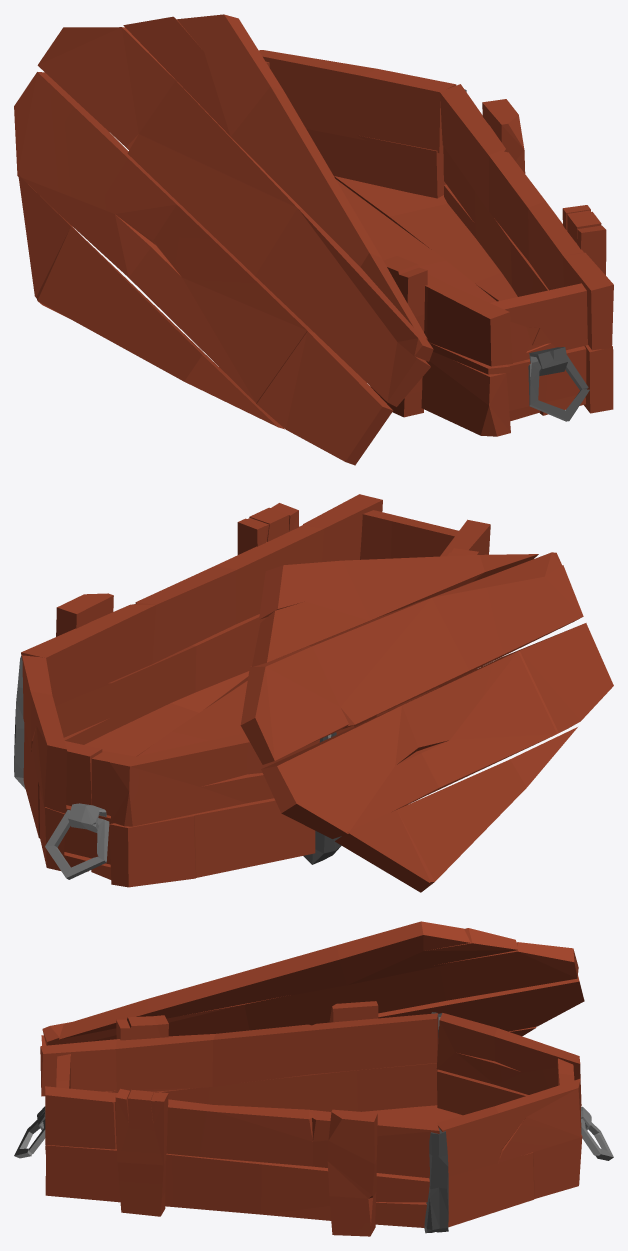
The model's file is HWN20_OpenCoffin.glb.
3 views of the same model, one above another, from view 1: azimuth 30°, elevation 25°; view 2: azimuth 150°, elevation 25°; view 3: azimuth 270°, elevation 25° (orthographic). The views are drawn at different scales.
Visible parts, largest first — view 1: HWN20_OpenCoffin; view 2: HWN20_OpenCoffin; view 3: HWN20_OpenCoffin.
Part boxes in pixels (x1,y1,x2,y2): HWN20_OpenCoffin: (14, 14, 613, 465); HWN20_OpenCoffin: (14, 494, 613, 892); HWN20_OpenCoffin: (14, 921, 613, 1236).
Size of what is drawn, in the model's own units: 1.79 by 1.11 by 2.73.
Materials: 1 (1 with a texture image).
